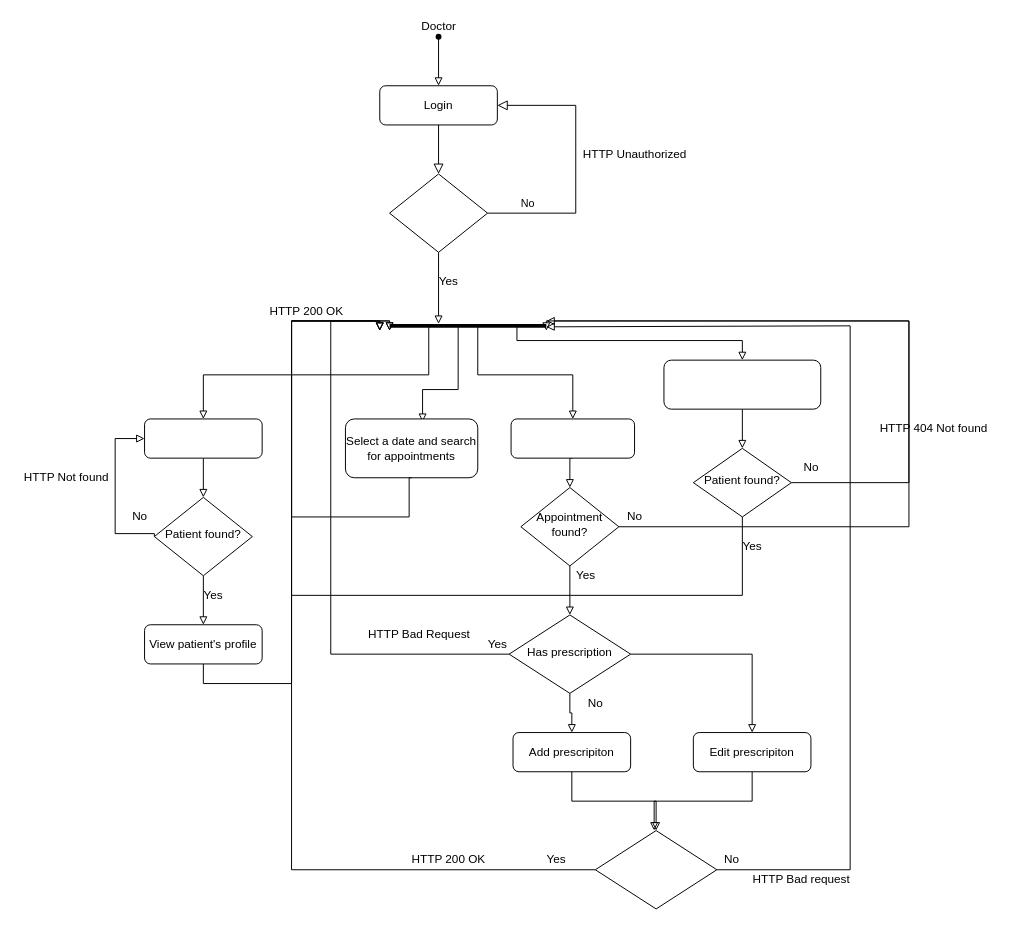
The diagram is 1013 pixels wide and 926 high, and some of its shapes have lost their labels. The shapes that lost their labels are listed below. From the top down, each one's centre as x and y in pixels, then its label:
At point 438,212: "Valid credentials".
At point 742,384: "View previous appointments and prescriptions of a patient".
At point 203,438: "Search patient by name".
At point 572,438: "Find appointment of a patient by a given date".
At point 655,869: "Valid prescripition?".
